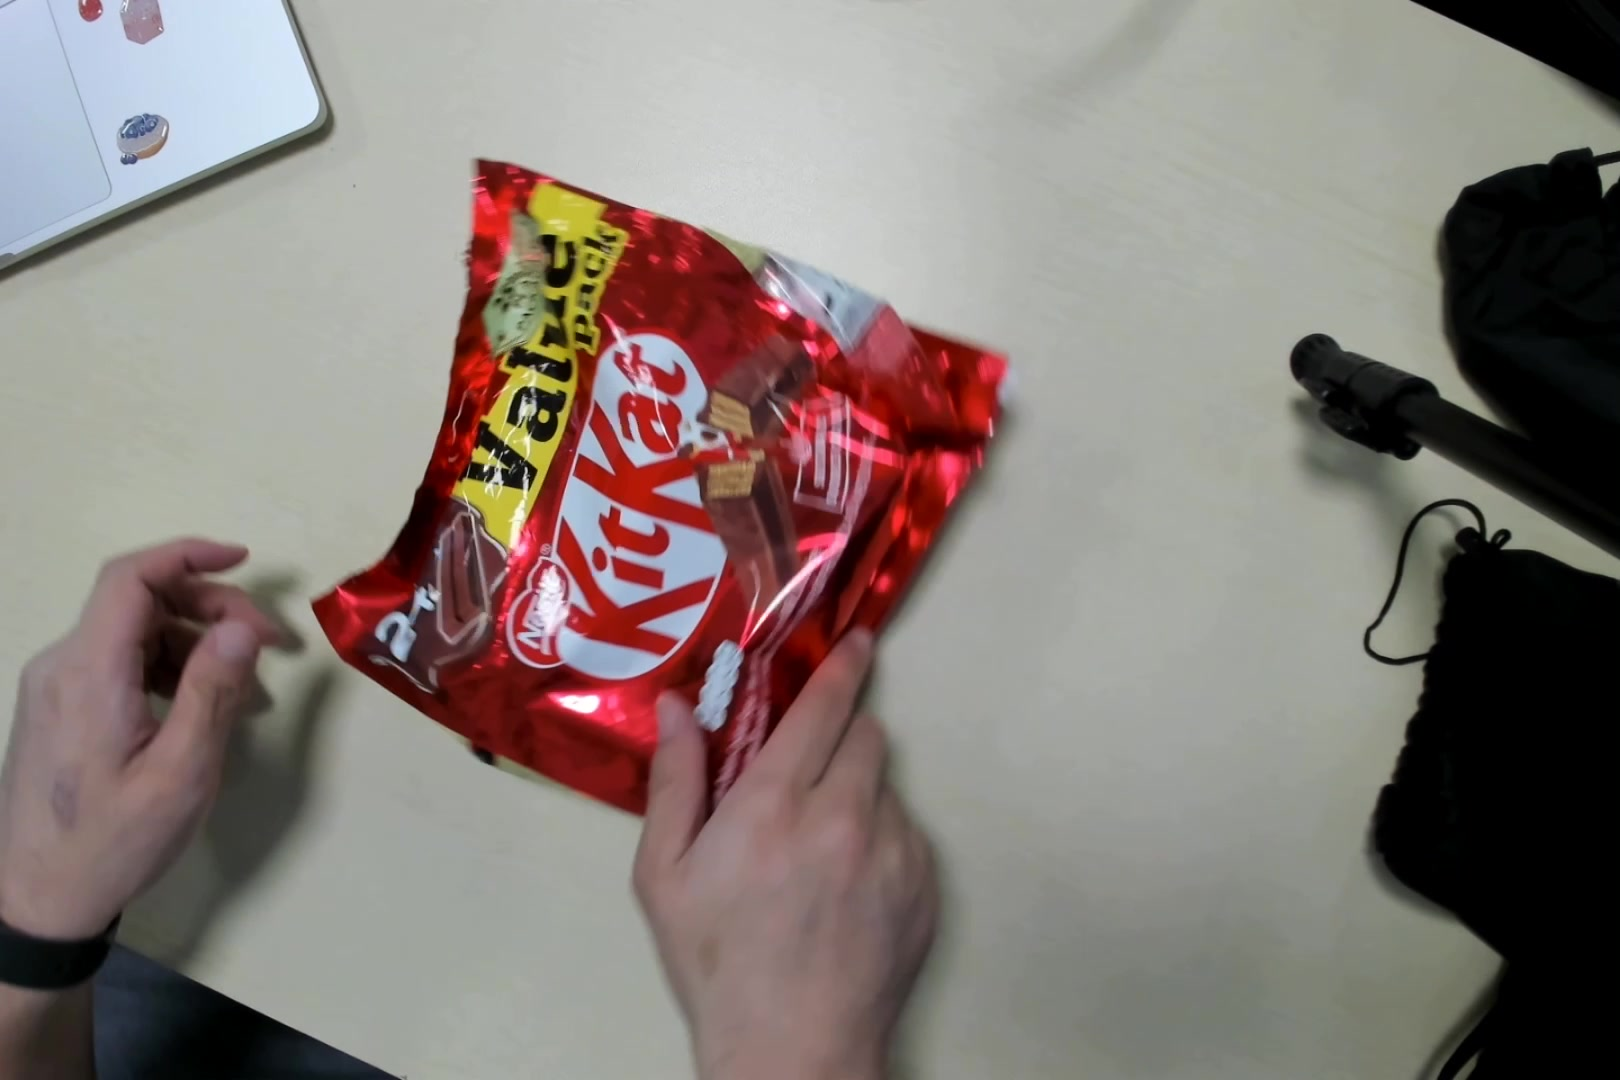SweetsChocolatesOthers_400-499g_Halal_NonHealthy: (306, 146, 1016, 827)
